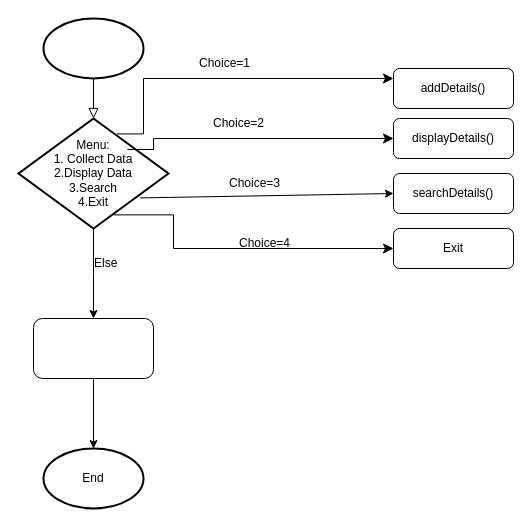
Image size: 531x526. Some labels were removed from this diagram. The centre of each missing label's shape, as x and y in pixels:
"Invalid Choiice" goes at (93,348).
"Start" goes at (93,48).
